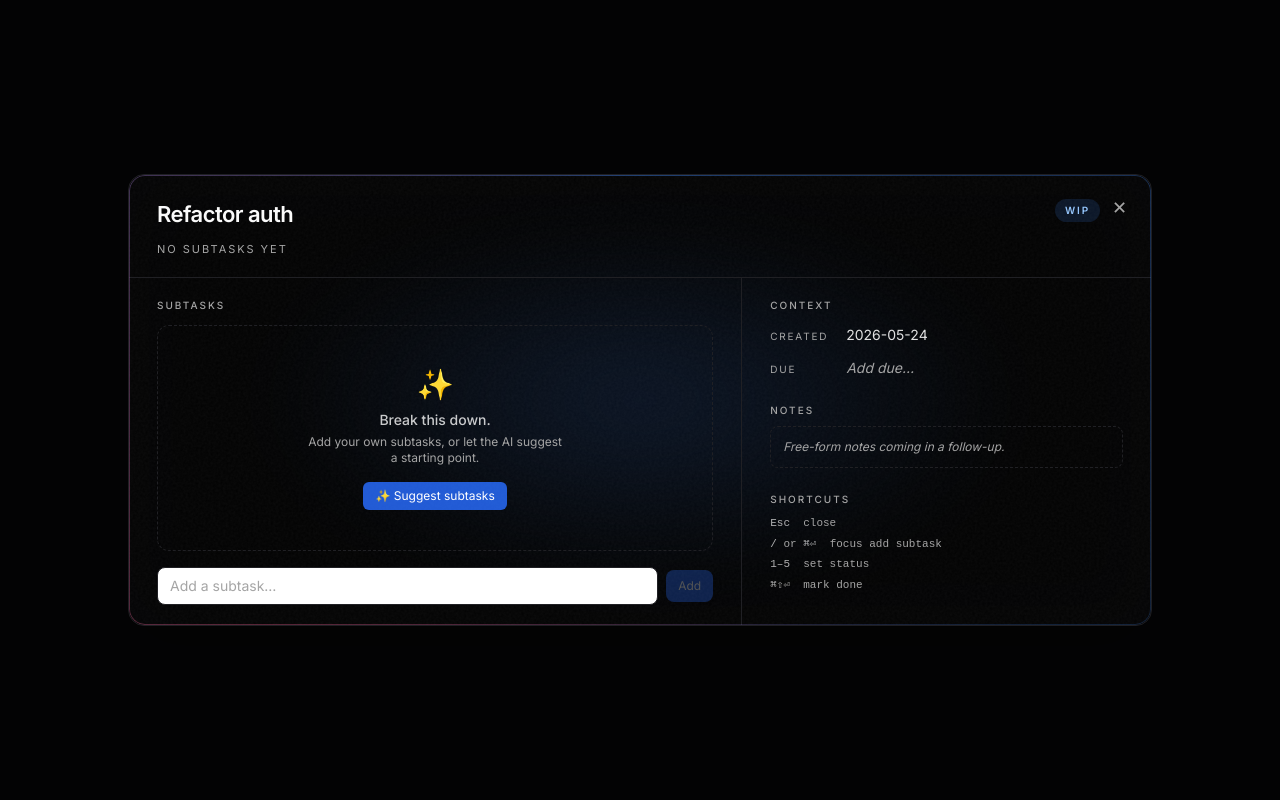
TaskDetailModal › shows an error when the AI returns no subtasks
What coordinates should you click on to do the following:
click the button with test id "task-suggest-button"
I would click on:
 (435, 496)
Its box is [364,482,507,510].
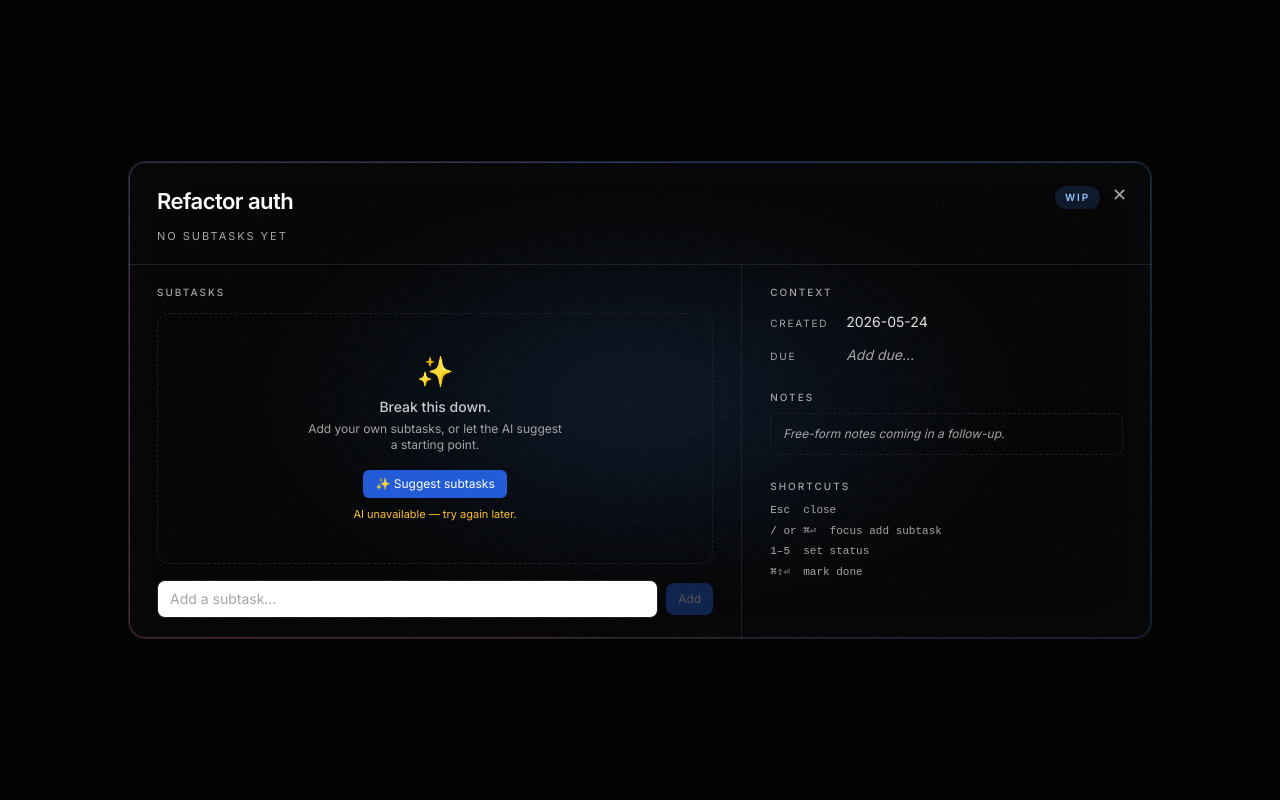
Now the text "AI unavailable — try again later." is shown, box [353,506,517,523]
